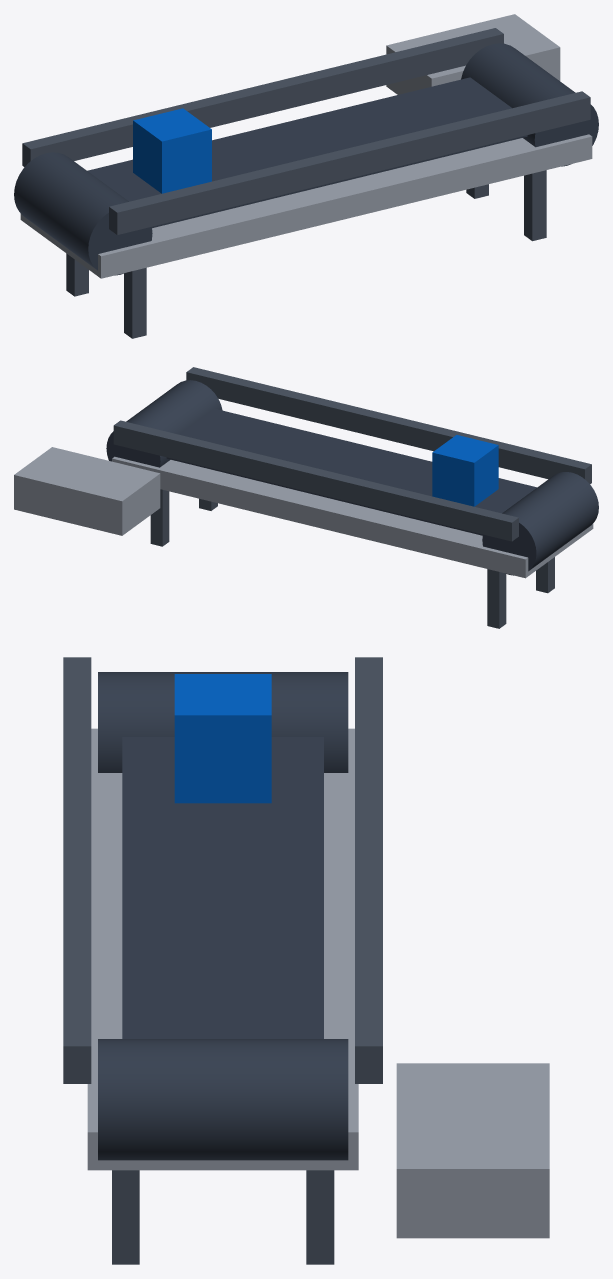
Rendered from conveyor-belt-industrial.glb.
The picture shows the model from 3 angles, top to bottom: view 1: azimuth 30°, elevation 25°; view 2: azimuth 150°, elevation 25°; view 3: azimuth 270°, elevation 25°; orthographic projection. The views are drawn at different scales.
Visible parts, largest first — view 1: conveyor-belt-industrial; view 2: conveyor-belt-industrial; view 3: conveyor-belt-industrial.
Part boxes in pixels (box(x1,y1,x2,y2)): conveyor-belt-industrial: box(14, 14, 598, 338); conveyor-belt-industrial: box(14, 367, 598, 628); conveyor-belt-industrial: box(63, 657, 549, 1264).
Size of the model in its own units: 3.14 by 0.92 by 1.4.
